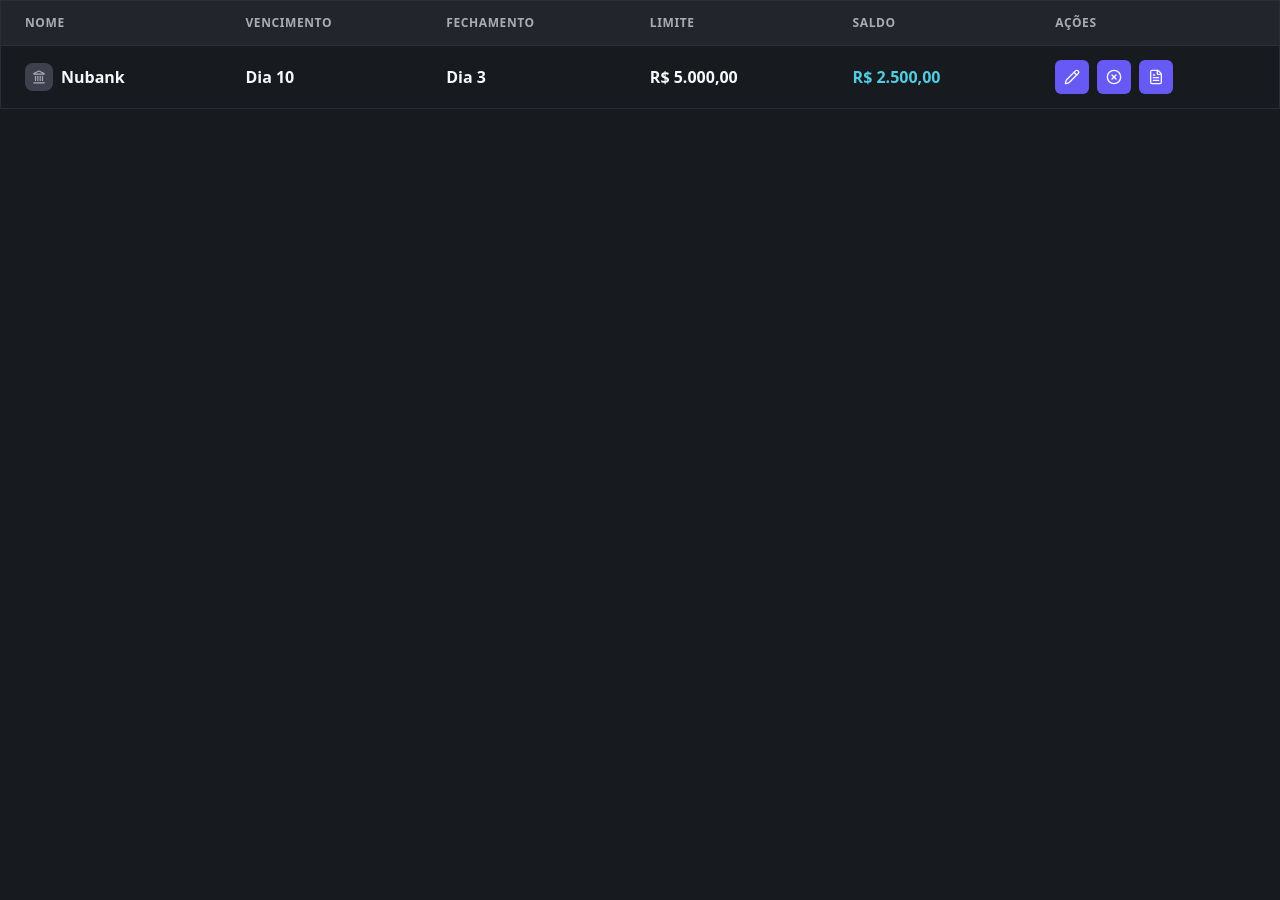
Test: TabelaCartoes › modal de alteração de status › deve fechar o modal ao clicar em Cancelar
Click the 2nd button at (1114, 77), box [1097,60,1131,94]
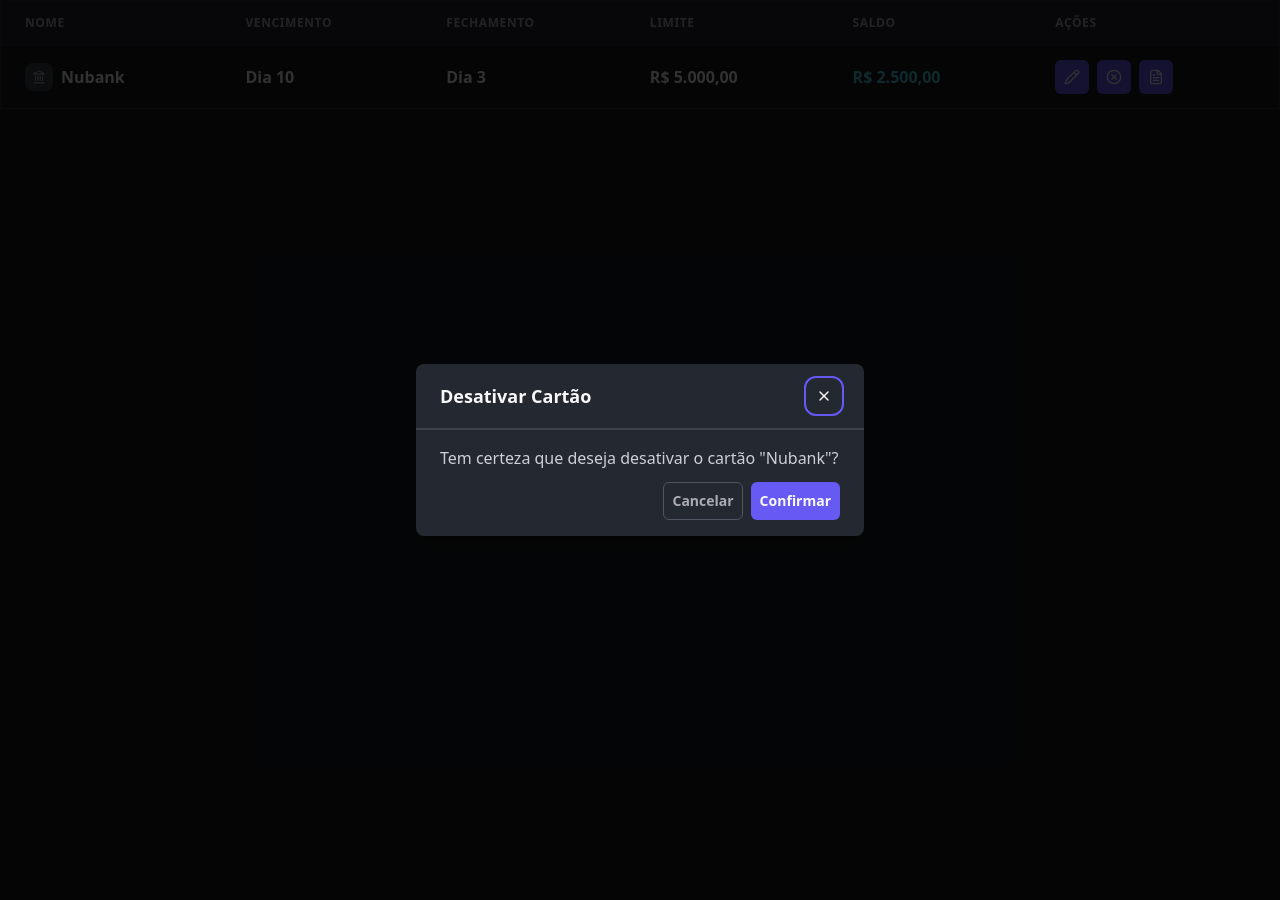
Click the button "Cancelar" at (703, 501), box [664,482,743,520]
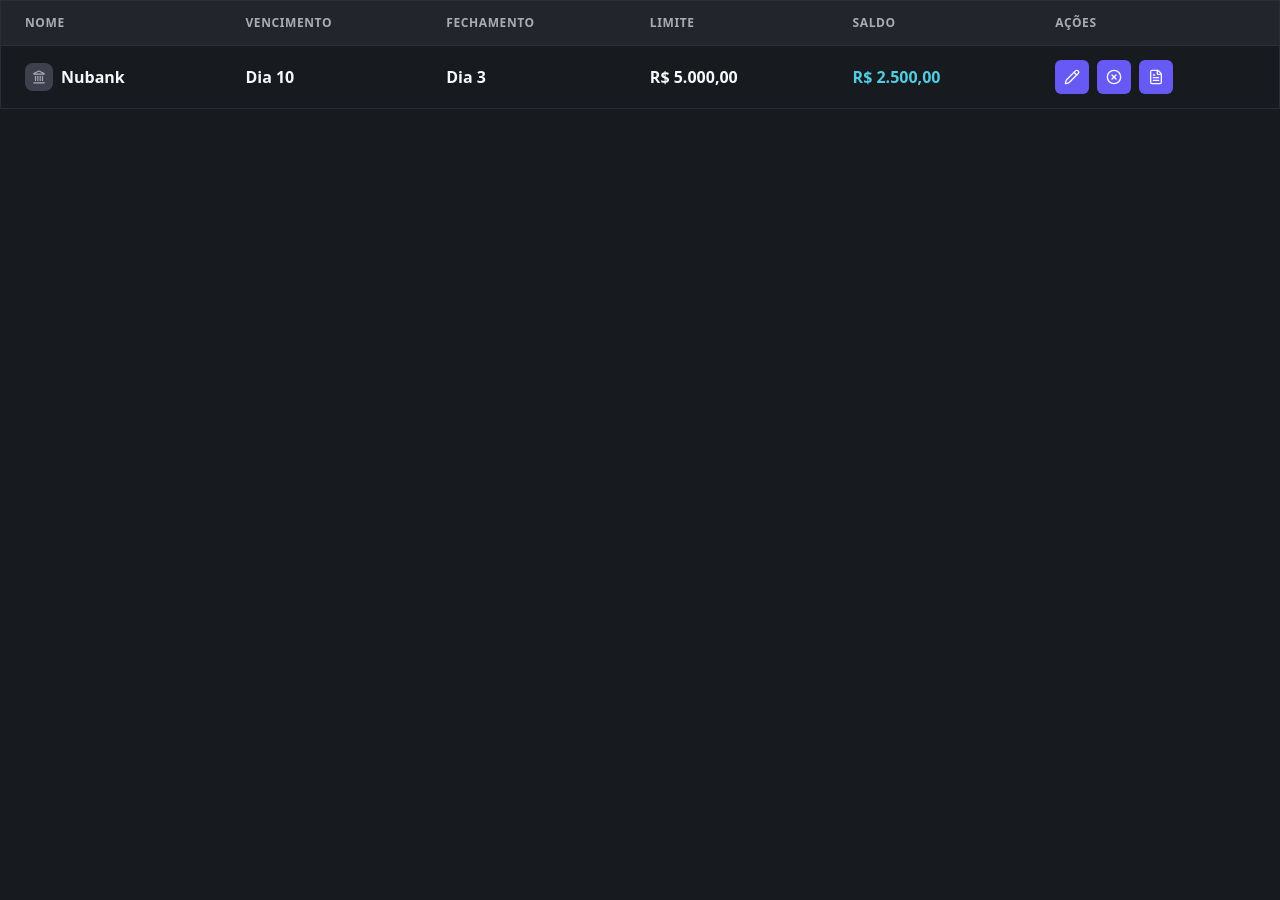
Now the heading "Desativar Cartão" is gone
